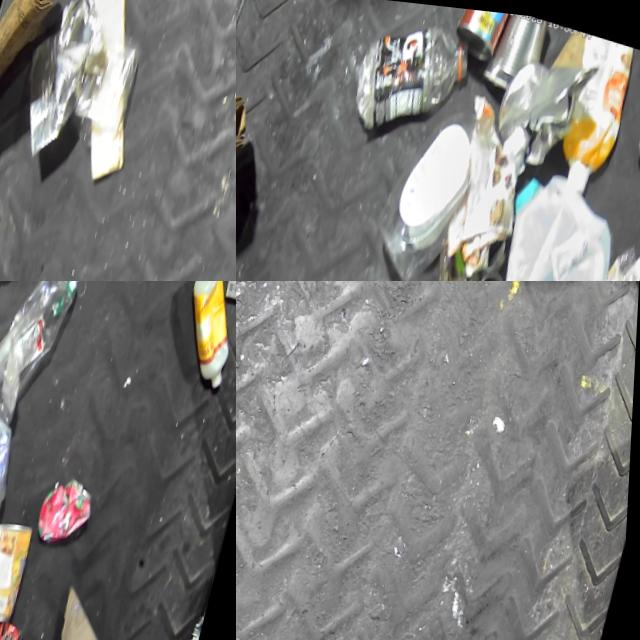can: (9, 0, 118, 168), (489, 29, 603, 172), (481, 4, 550, 90), (38, 459, 103, 543), (0, 502, 42, 623), (451, 1, 511, 58), (0, 599, 35, 640), (458, 256, 514, 281)
milk_jug: (476, 155, 627, 281)
non_white_jug: (554, 22, 640, 188)
plastic_bottle: (348, 0, 478, 152), (0, 281, 88, 416)
